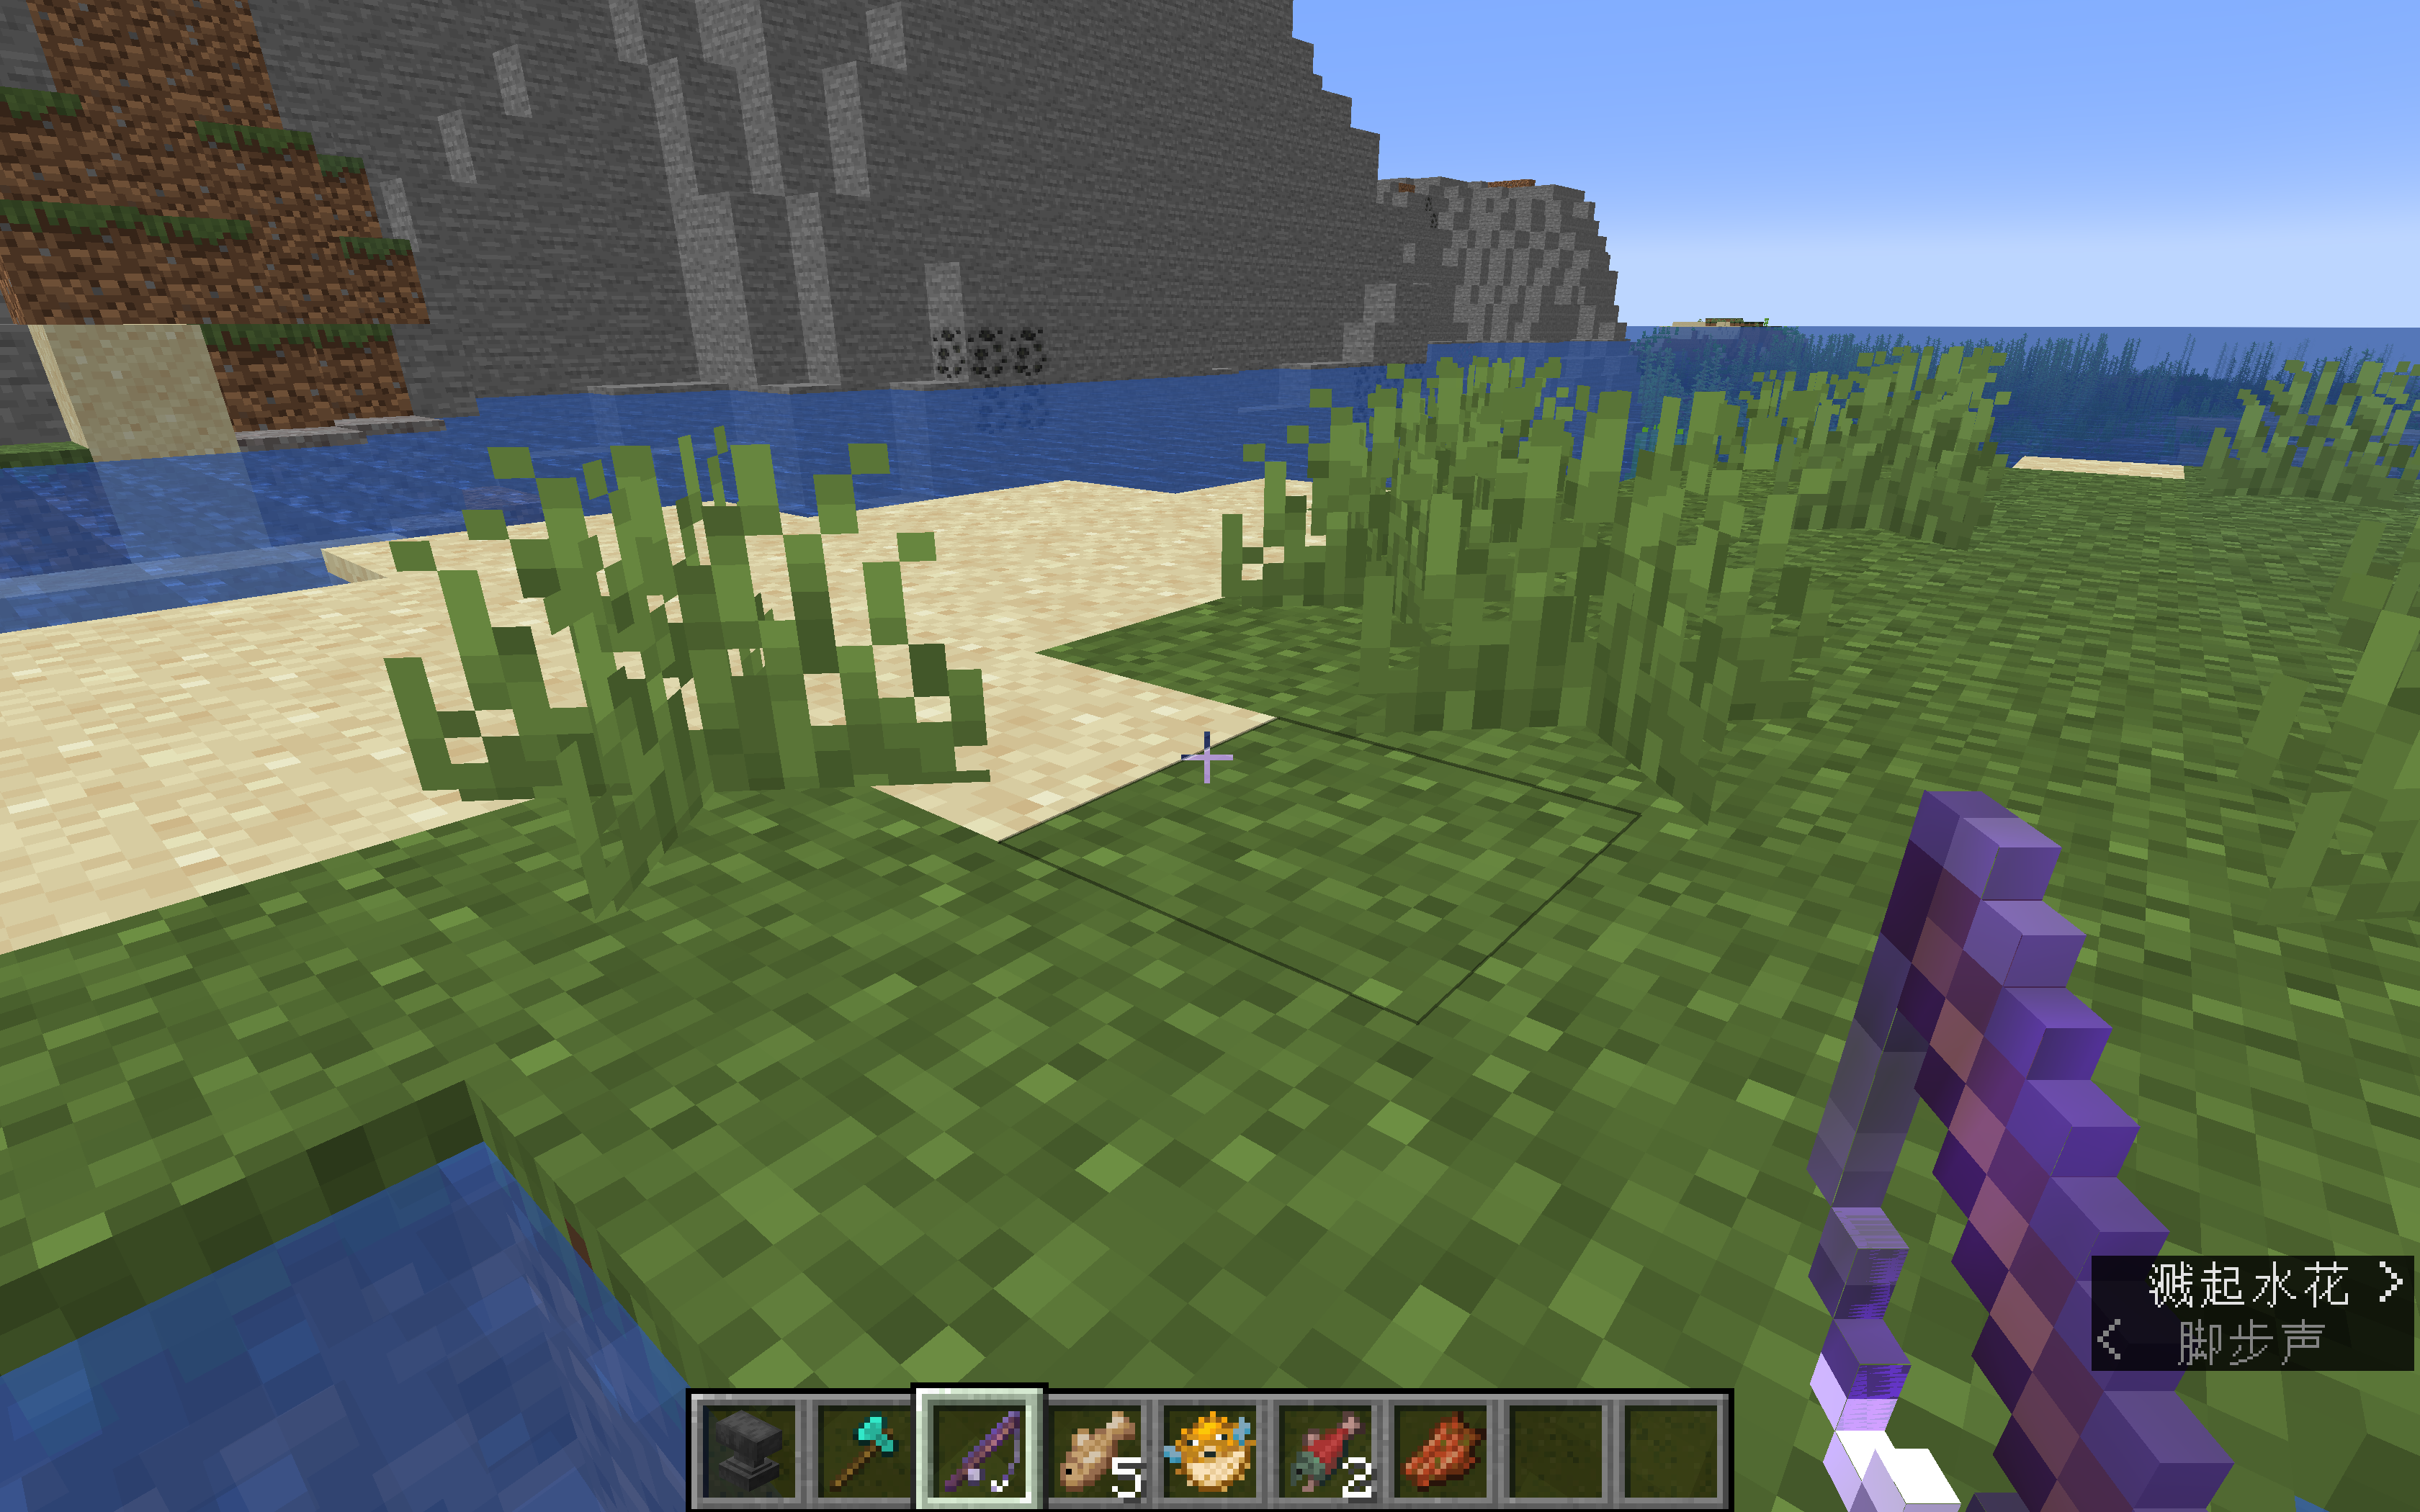inf: (2094, 1256, 2417, 1371)
